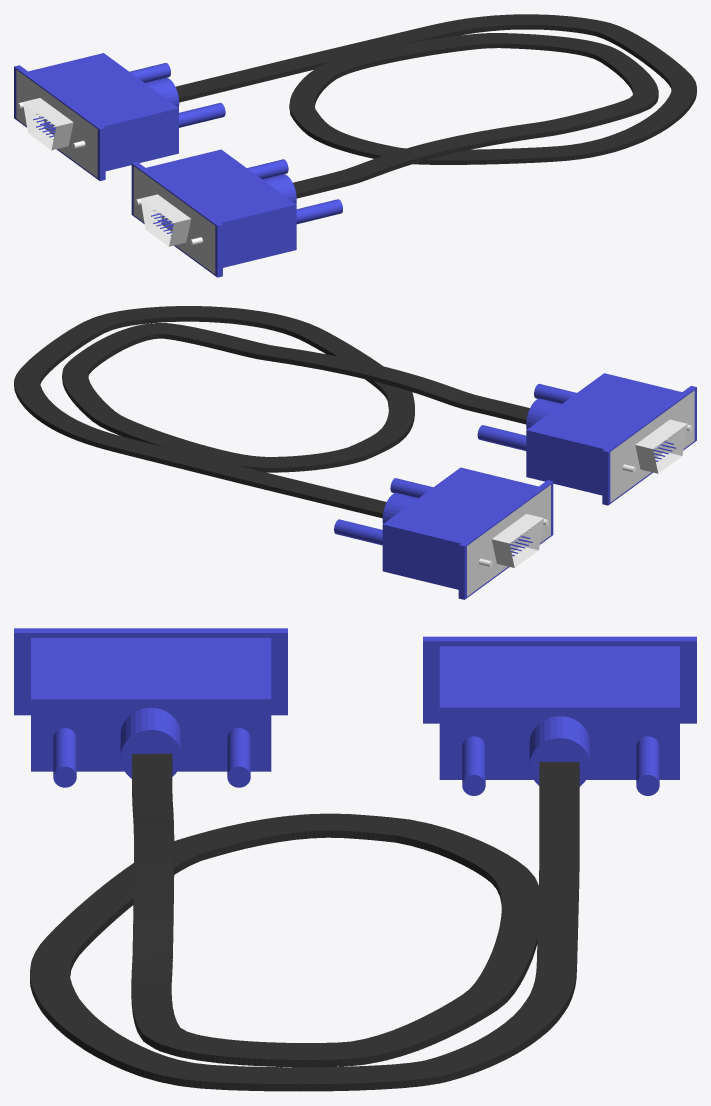
Rendered from vga.fbx.
3 views of the same model, one above another, from view 1: azimuth 30°, elevation 25°; view 2: azimuth 150°, elevation 25°; view 3: azimuth 270°, elevation 25° (orthographic). The views are drawn at different scales.
Visible parts, largest first — view 1: Cylinder, Cylinder.006, Cylinder.000; view 2: Cylinder, Cylinder.000, Cylinder.006; view 3: Cylinder, Cylinder.000, Cylinder.006.
Boxes of the visible parts, box(x1,y1,x2,y2) form: Cylinder: box(175, 14, 696, 198); Cylinder.006: box(131, 149, 342, 277); Cylinder.000: box(14, 53, 225, 180); Cylinder: box(14, 306, 529, 518); Cylinder.000: box(334, 467, 553, 599); Cylinder.006: box(477, 373, 696, 505); Cylinder: box(30, 753, 579, 1091); Cylinder.000: box(423, 636, 696, 795); Cylinder.006: box(14, 628, 287, 787).
Bounding box in the file's own units: 2111 × 188 × 1412.
